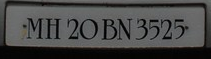2: (159, 17, 173, 41), (66, 17, 80, 40)
3: (134, 16, 148, 41)
5: (147, 17, 160, 41), (172, 17, 185, 41)
B: (101, 17, 118, 41)
H: (44, 16, 62, 40)
M: (26, 15, 44, 41)
N: (116, 17, 132, 40)
O: (80, 17, 98, 41)
